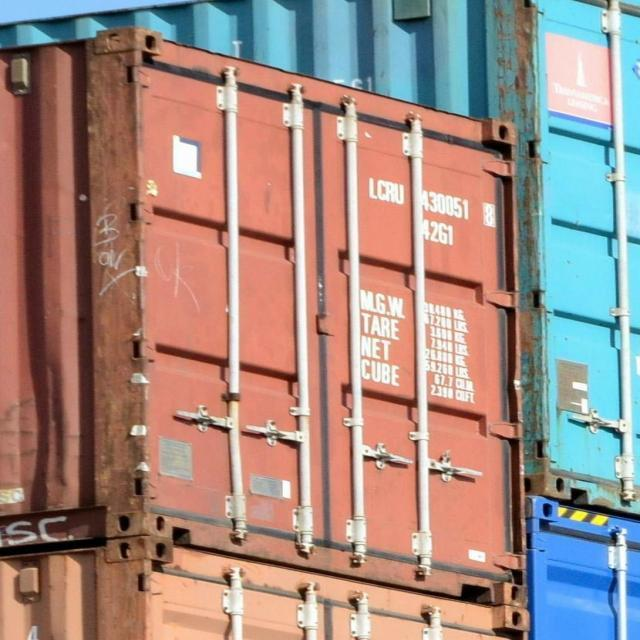ISO: (421, 218, 458, 249)
container_number: (364, 172, 504, 228)
